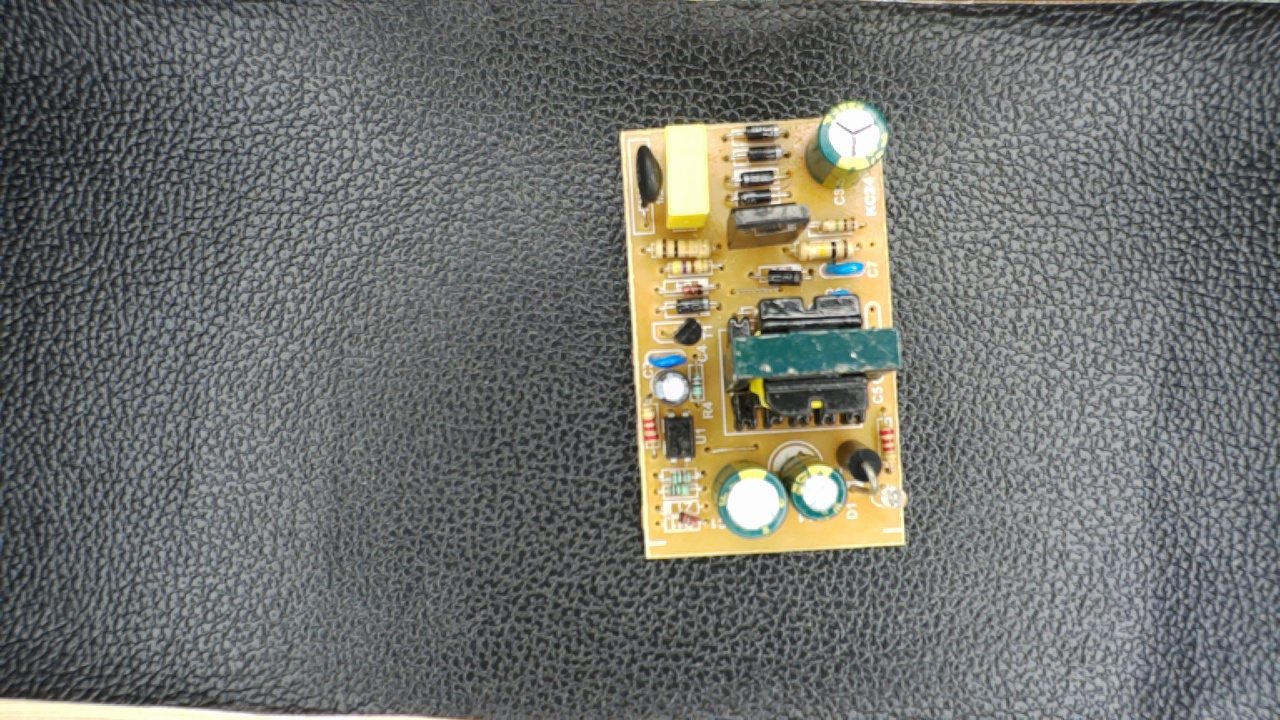fuse: (627, 138, 662, 221)
hv_capacitor: (806, 98, 890, 194)
optocoupler: (654, 407, 702, 470)
